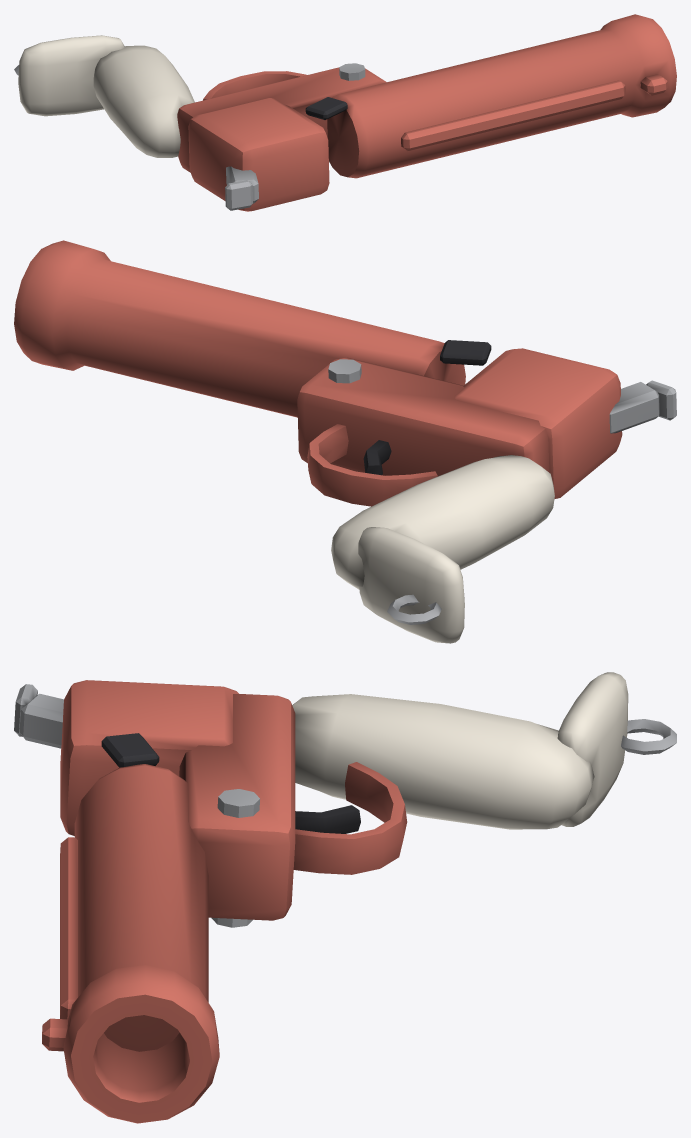
File: flare_gun.glb
3 views of the same model, one above another, from view 1: azimuth 30°, elevation 25°; view 2: azimuth 150°, elevation 25°; view 3: azimuth 270°, elevation 25° (orthographic). The views are drawn at different scales.
Visible parts, largest first — view 1: PART; view 2: PART; view 3: PART.
Boxes of the visible parts, <box> form: PART: <box>14,14,676,211</box>; PART: <box>14,240,676,643</box>; PART: <box>14,672,676,1123</box>.
Size of the model in its own units: 0.2396 by 0.0455 by 0.1831.
